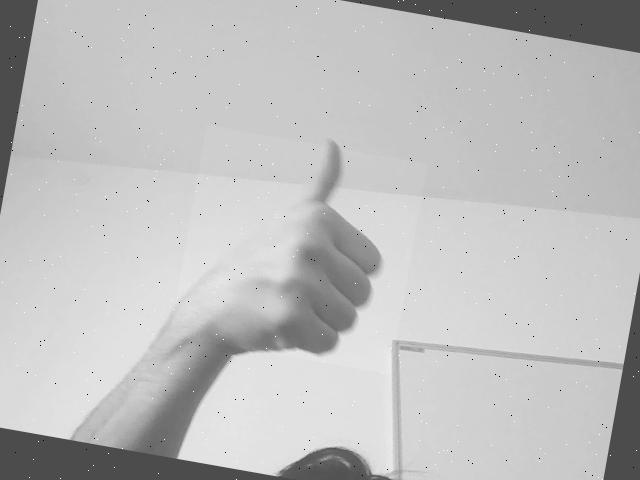good: (170, 125, 426, 374)
